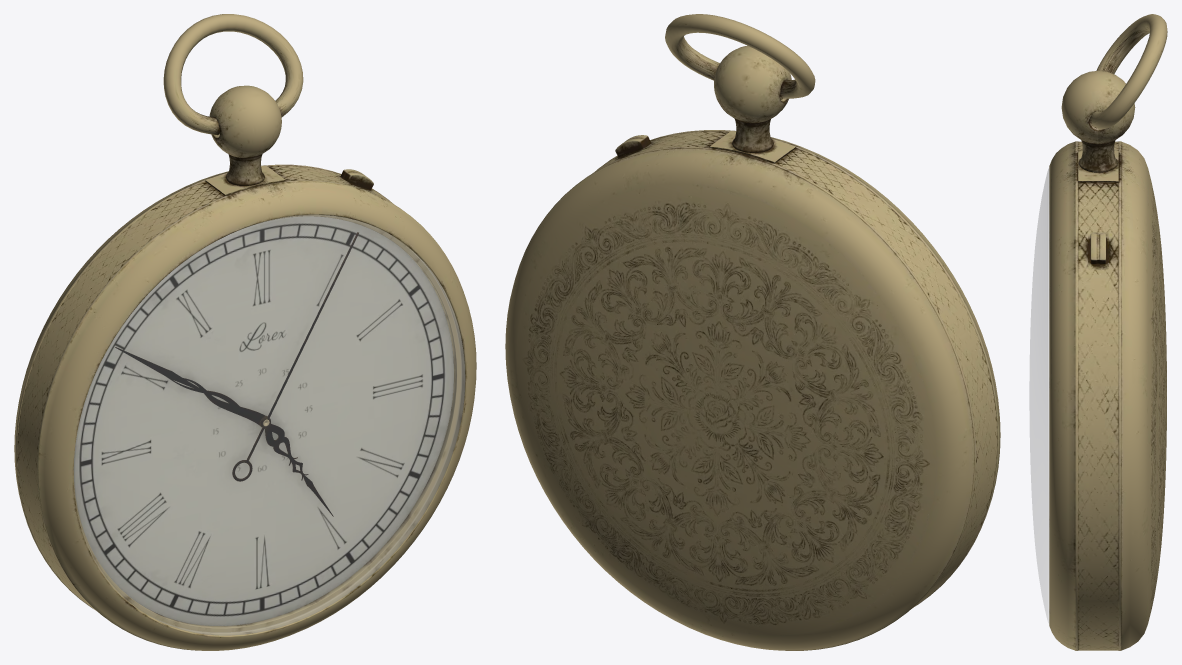
3 views of the same model, side by side, from view 1: azimuth 30°, elevation 25°; view 2: azimuth 150°, elevation 25°; view 3: azimuth 270°, elevation 25° (orthographic). The views are drawn at different scales.
Parts seen in each view (by area): view 1: pocket_watch_frame, pocket_watch_ring, pocket_watch_hand_minutes, pocket_watch_hand_secondes, pocket_watch_hand_hours; view 2: pocket_watch_frame, pocket_watch_ring; view 3: pocket_watch_frame, pocket_watch_ring, pocket_watch_button.
Boxes of the visible parts, x1,y1,x2,y2 form: pocket_watch_frame: [14, 85, 476, 650]; pocket_watch_ring: [163, 14, 303, 135]; pocket_watch_hand_minutes: [115, 347, 267, 426]; pocket_watch_hand_secondes: [232, 232, 358, 481]; pocket_watch_hand_hours: [261, 416, 333, 516]; pocket_watch_frame: [505, 45, 1000, 650]; pocket_watch_ring: [665, 14, 815, 98]; pocket_watch_frame: [1029, 70, 1166, 650]; pocket_watch_ring: [1089, 14, 1167, 129]; pocket_watch_button: [1088, 232, 1108, 269].
Bounding box in the file's own units: 0.0577 × 0.0756 × 0.0156.
2 materials, 1 textured.
